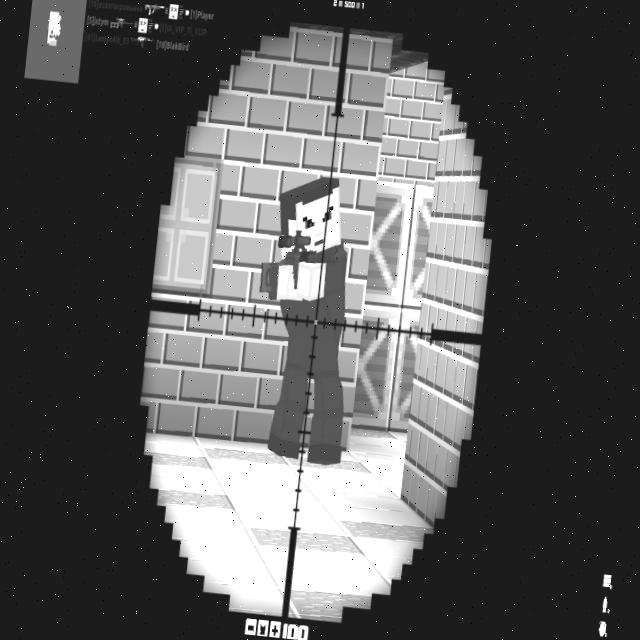Head: (273, 171, 348, 262)
Player: (240, 168, 370, 466)
